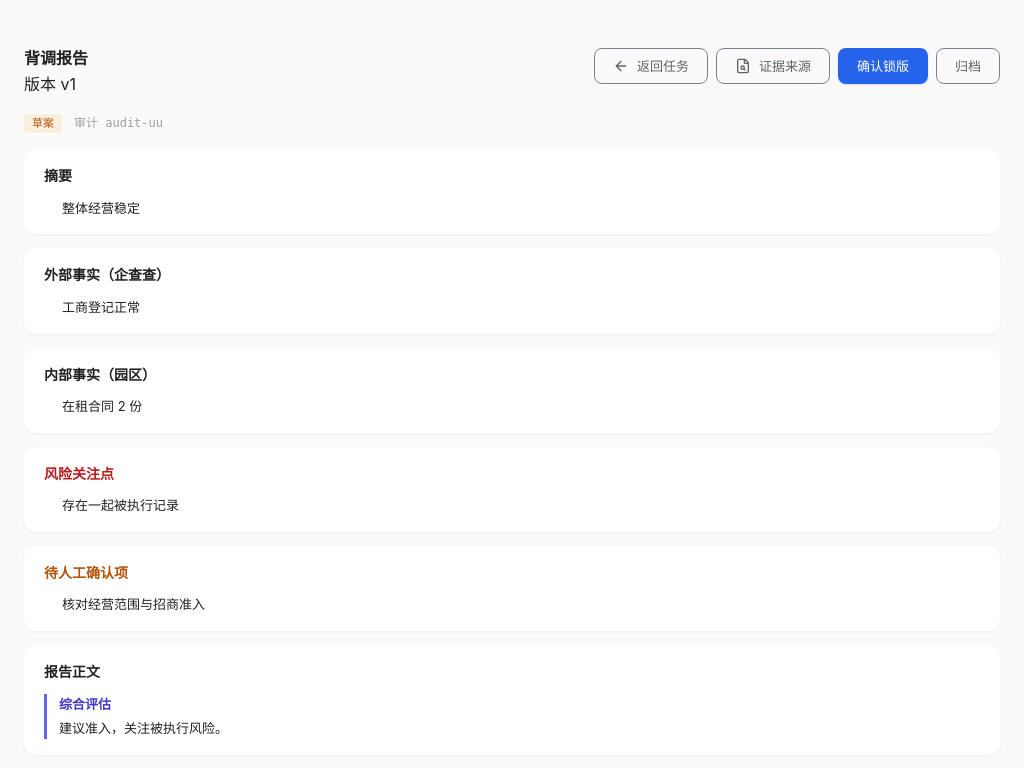
Test: DdReportView.vue (REQ-046 / APP-005) › evidence drawer loads and renders evidence rows
Click the button with test id "evidence-btn" at [773, 66], box 716,48 -> 830,84
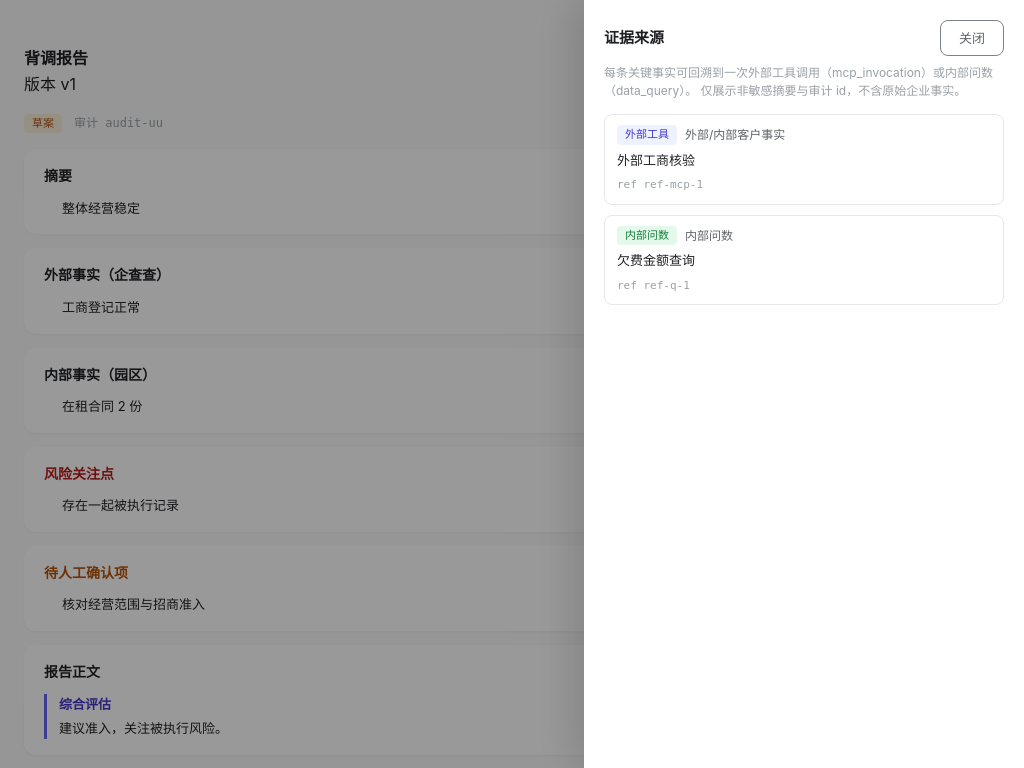
Now the element with test id "evidence-drawer" shows "内部问数", box 625,228 -> 669,242
Now the element with test id "evidence-drawer" shows "外部工具", box 625,127 -> 669,141
Now the element with test id "evidence-drawer" shows "ref-mcp-1", box 617,178 -> 703,191
